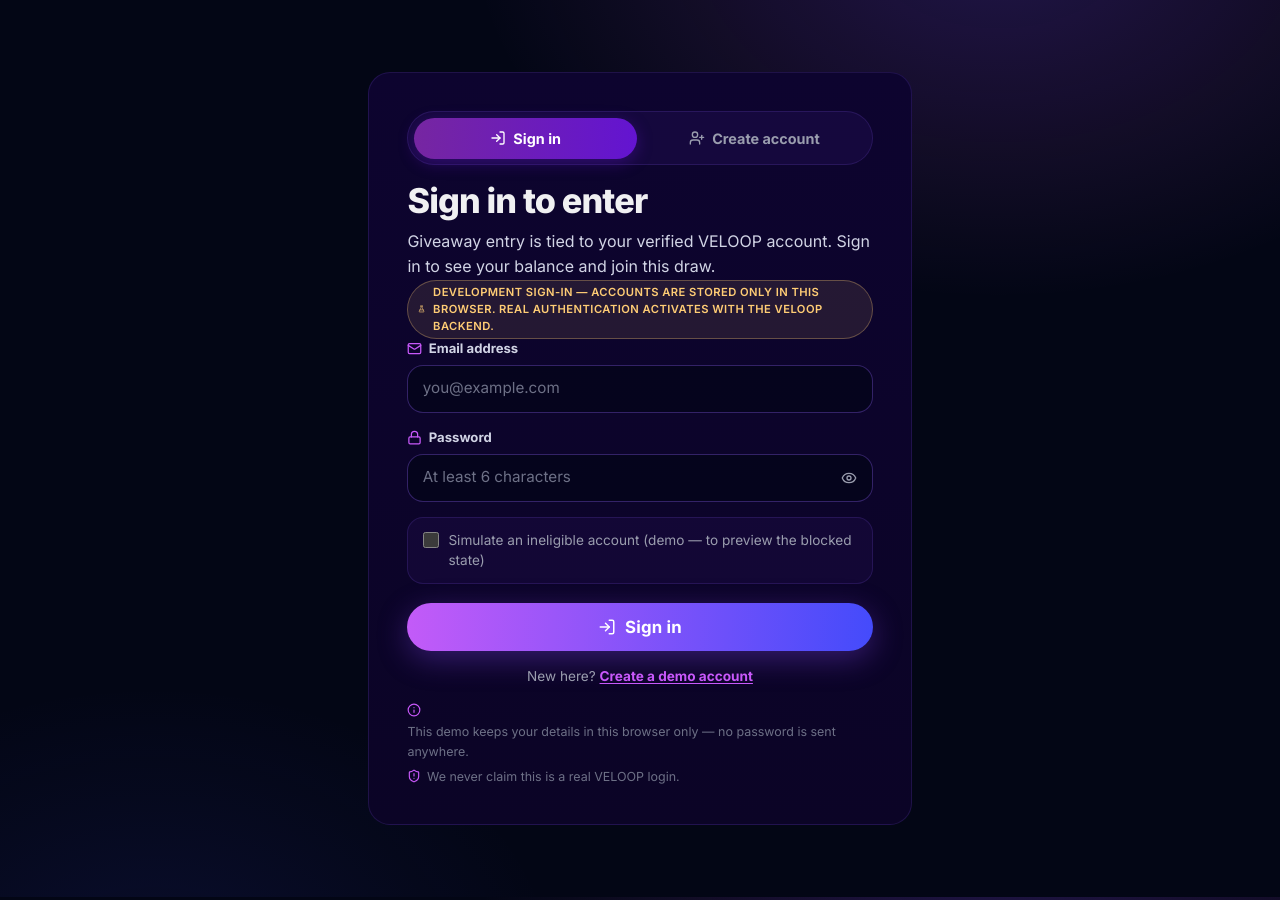
Scenario: LoginPage — sign in › surfaces a generic error for wrong credentials
This screenshot has width=1280, height=900.
Type "asha@example.com" into the field labelled "Email address" at (640, 389), box [407, 365, 873, 413]
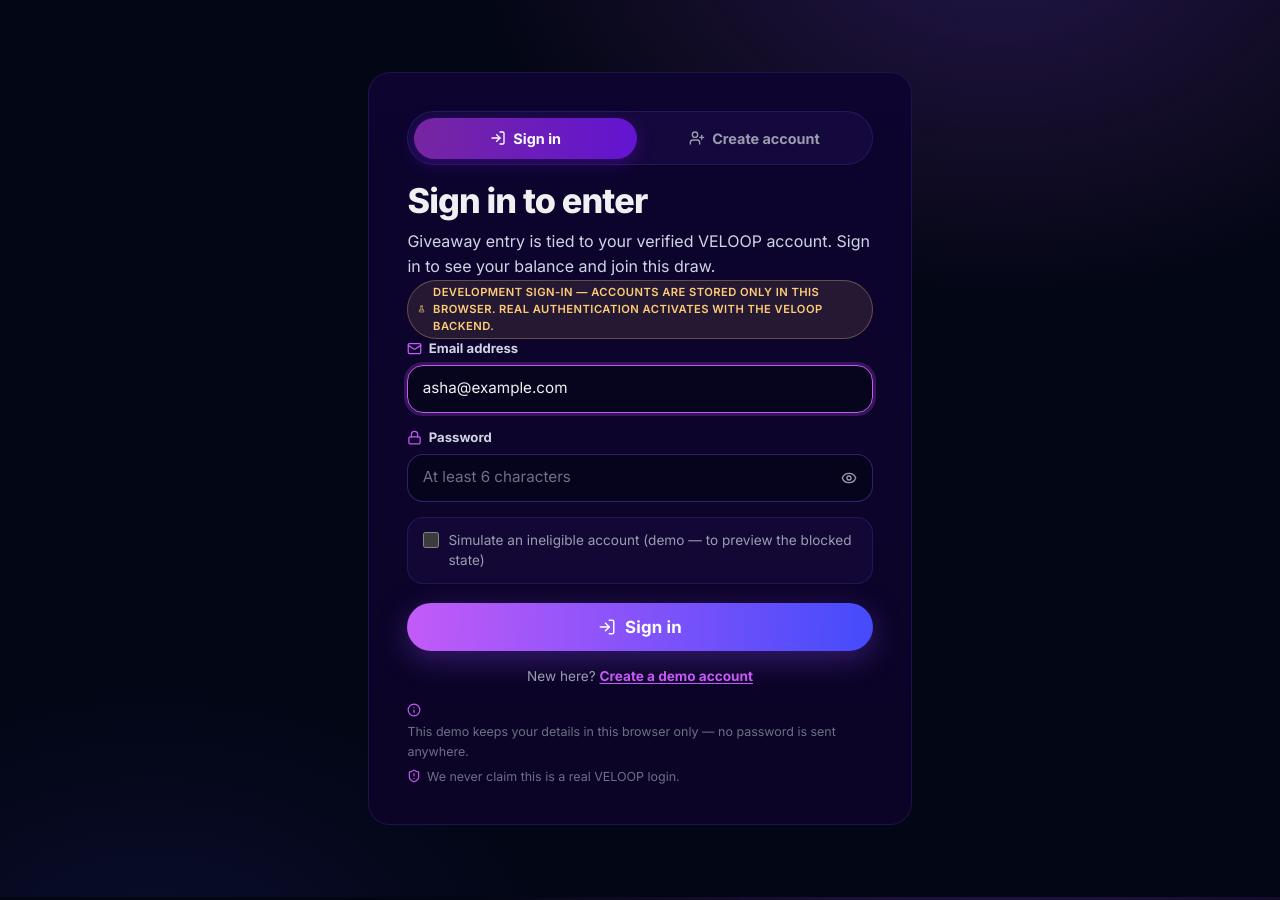
Type "wrongpass" into the password field labelled "Password" at (640, 478), box [407, 454, 873, 502]
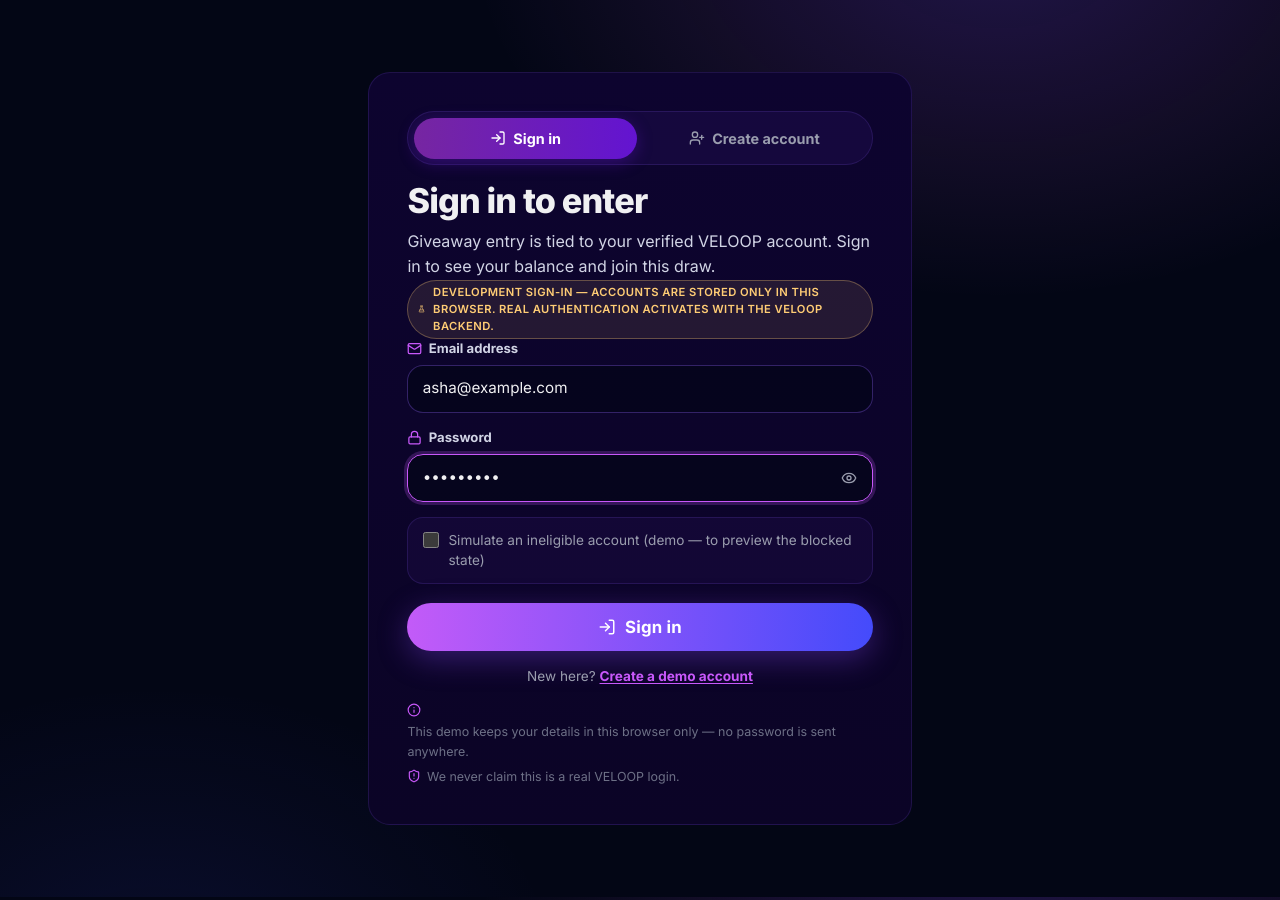
Click the submit button at (640, 627), box [407, 603, 873, 651]
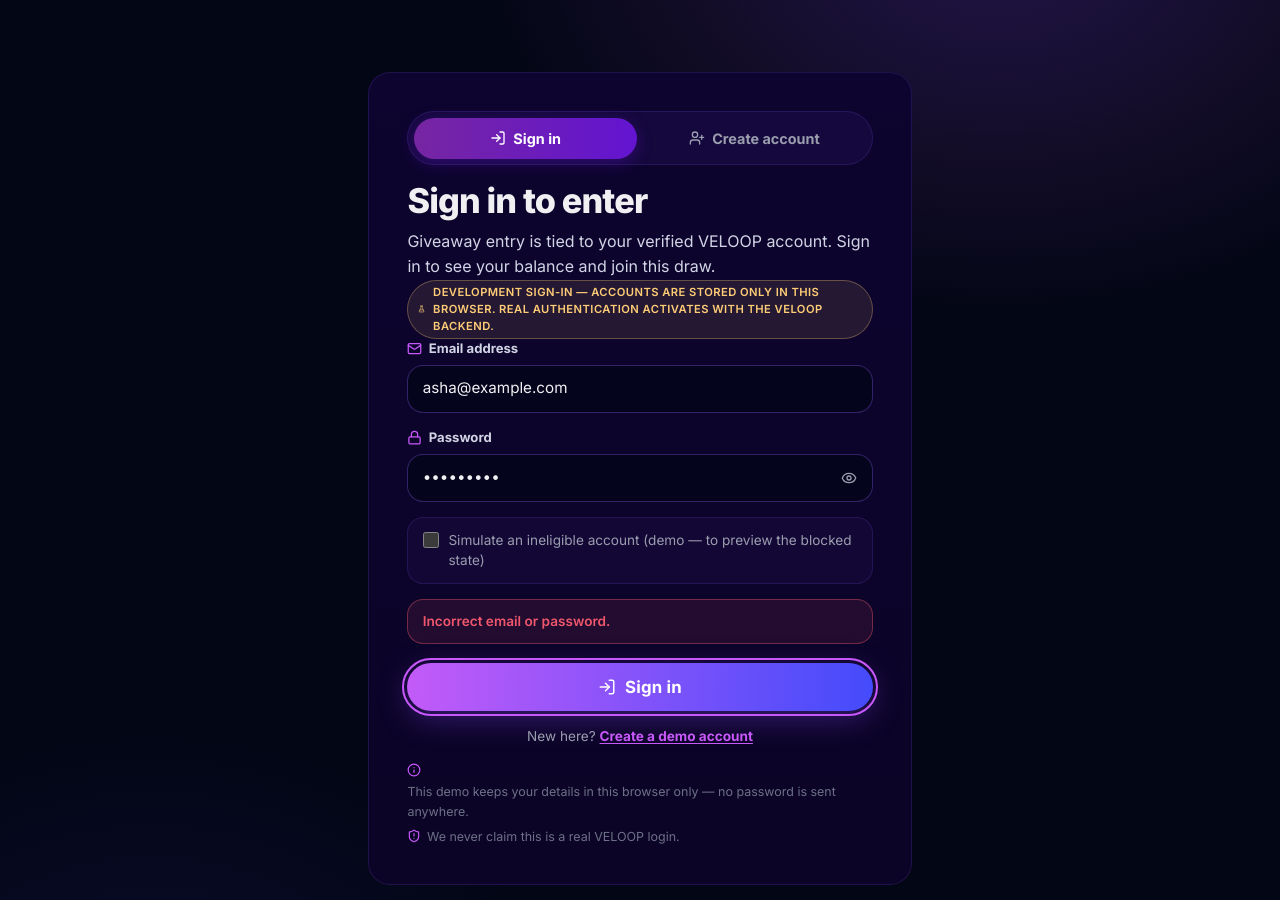
Expected: the text "Incorrect email or password." is shown, [407, 599, 873, 644]
